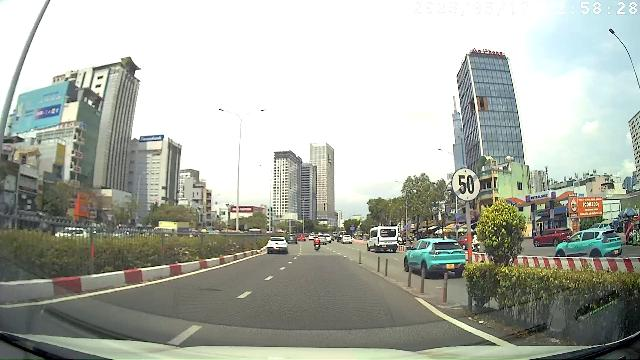134-het-han-che-toc-do-toi-da: (451, 166, 481, 202)
